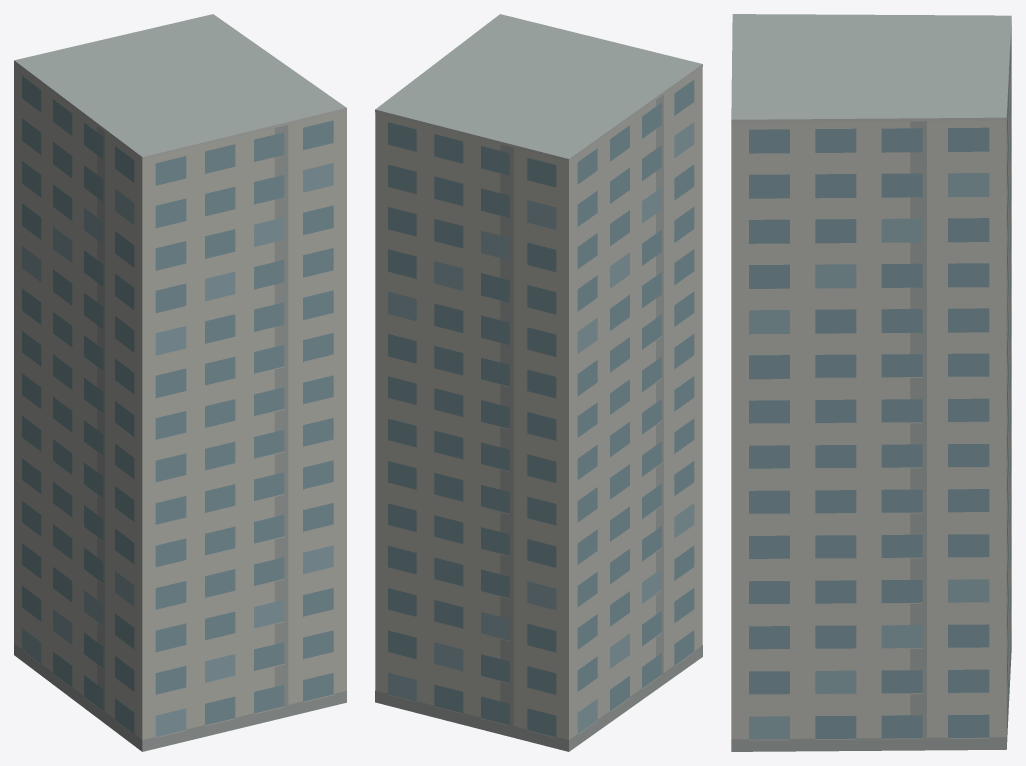
File: residential-6c595118-a436-4f86-a5df-d6f70b18a0e6.glb
The picture shows the model from 3 angles, left to right: view 1: azimuth 30°, elevation 25°; view 2: azimuth 150°, elevation 25°; view 3: azimuth 270°, elevation 25°; orthographic projection. The views are drawn at different scales.
Parts seen in each view (by area): view 1: residential-6c595118-a436-4f86-a5df-d6f70b18a0e6.tmp; view 2: residential-6c595118-a436-4f86-a5df-d6f70b18a0e6.tmp; view 3: residential-6c595118-a436-4f86-a5df-d6f70b18a0e6.tmp.
Boxes of the visible parts, x1=… form: residential-6c595118-a436-4f86-a5df-d6f70b18a0e6.tmp: x1=14, y1=14, x2=346, y2=751; residential-6c595118-a436-4f86-a5df-d6f70b18a0e6.tmp: x1=375, y1=14, x2=702, y2=751; residential-6c595118-a436-4f86-a5df-d6f70b18a0e6.tmp: x1=731, y1=14, x2=1011, y2=751.
Size of the model in its own units: 17.95 by 50 by 20.11.
